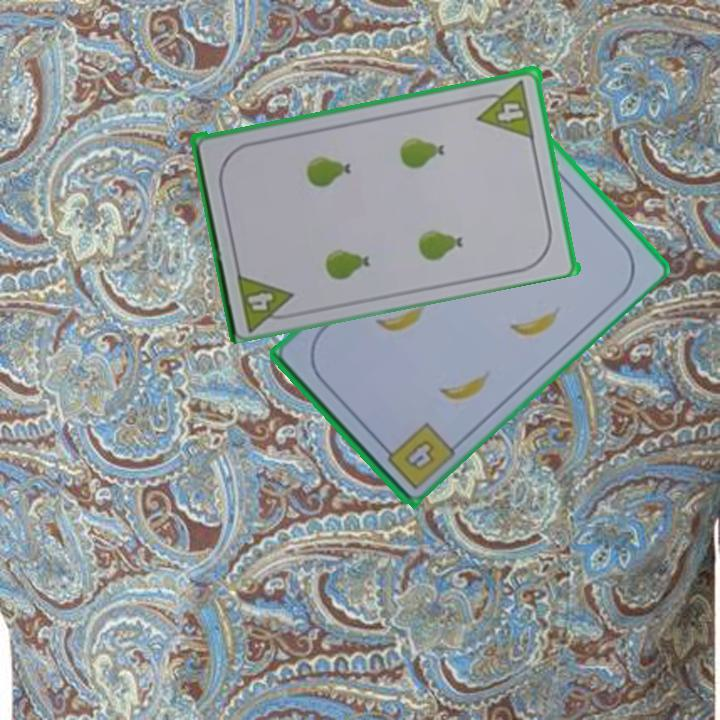4b: (376, 418, 458, 492)
4p: (476, 95, 533, 141), (244, 287, 277, 314)
